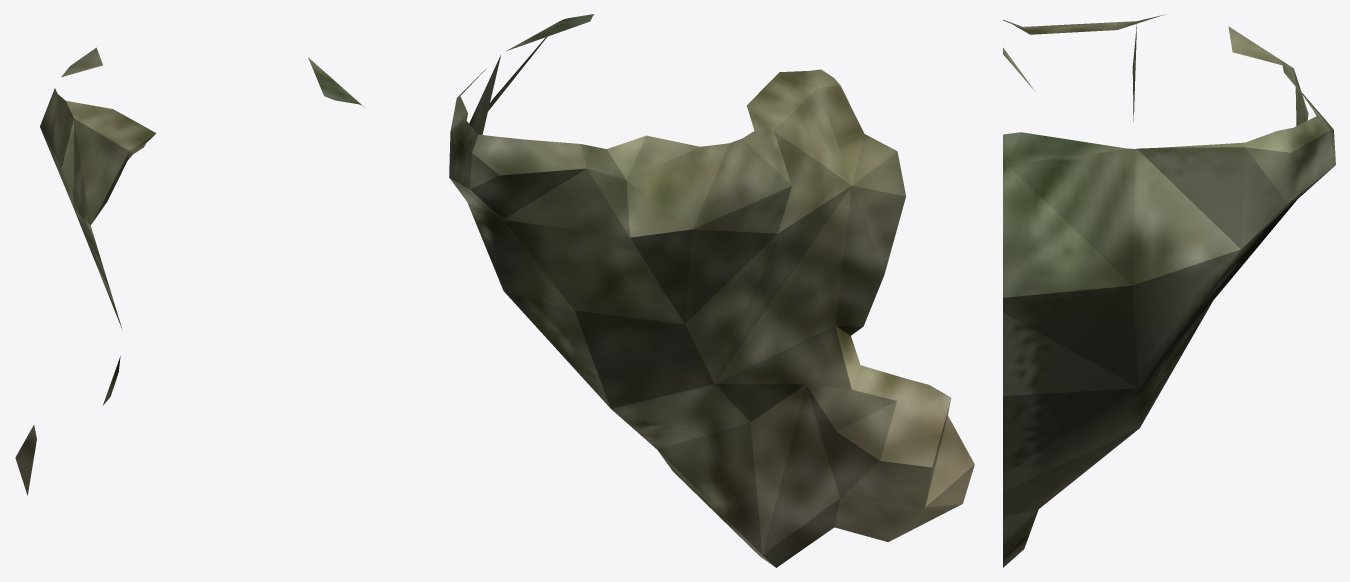
3 renders of one model, left to right at view 1: azimuth 30°, elevation 25°; view 2: azimuth 150°, elevation 25°; view 3: azimuth 270°, elevation 25°, orthographic. The views are drawn at different scales.
Size of the model in its own units: 1.59 by 1.61 by 0.9243.
1 material, 1 textured.
